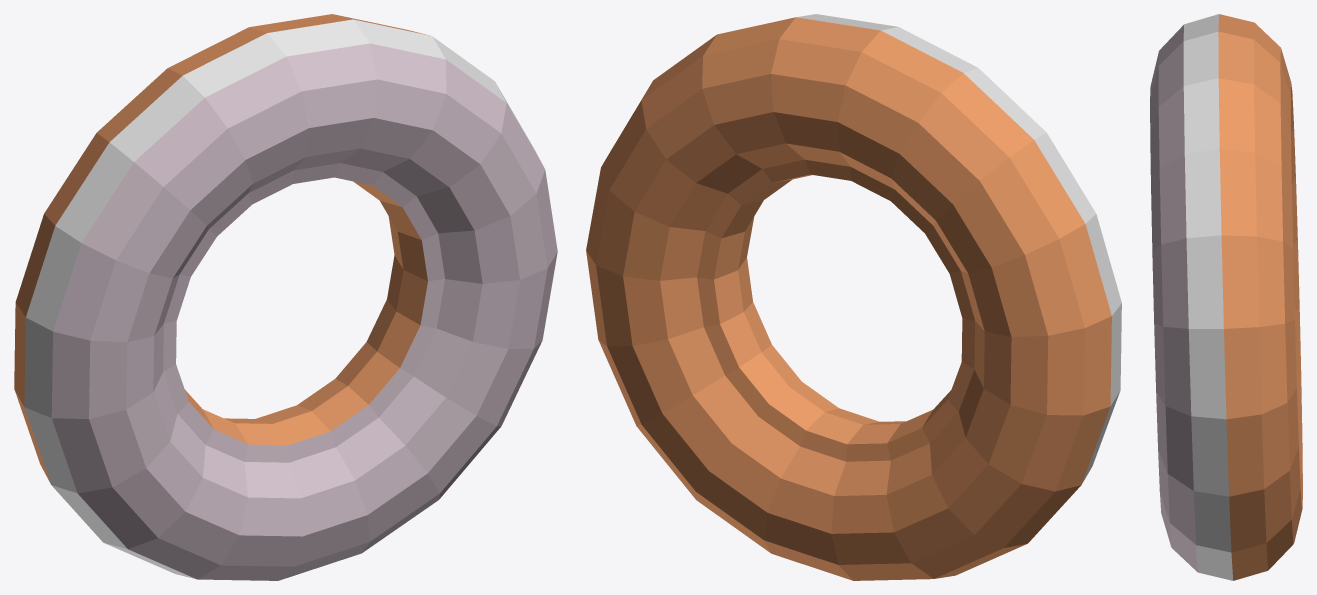
The model's file is donut2.fbx.
3 renders of one model, left to right at view 1: azimuth 30°, elevation 25°; view 2: azimuth 150°, elevation 25°; view 3: azimuth 270°, elevation 25°, orthographic. The views are drawn at different scales.
Visible parts, largest first — view 1: Torus.001; view 2: Torus.001; view 3: Torus.001.
Part boxes in pixels (x1,y1,x2,y2): Torus.001: [14, 14, 557, 580]; Torus.001: [586, 14, 1121, 580]; Torus.001: [1150, 14, 1302, 580].
Bounding box in the file's own units: 169 × 169 × 45.59.
